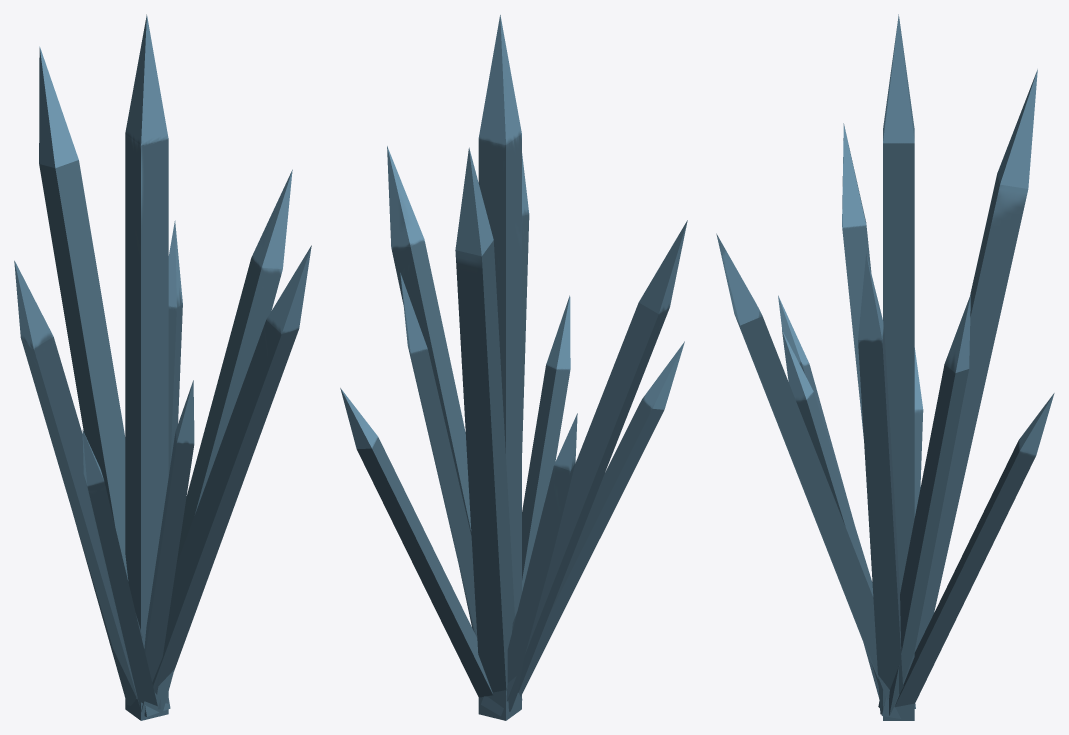
The model's file is IceBush.fbx.
3 renders of one model, left to right at view 1: azimuth 30°, elevation 25°; view 2: azimuth 150°, elevation 25°; view 3: azimuth 270°, elevation 25°, orthographic.
Visible parts, largest first — view 1: Cube.002; view 2: Cube.002; view 3: Cube.002.
Part boxes in pixels (x1,y1,x2,y2): Cube.002: (14, 14, 311, 720); Cube.002: (340, 15, 687, 720); Cube.002: (716, 14, 1054, 720).
Bounding box in the file's own units: 105 × 243 × 106.
